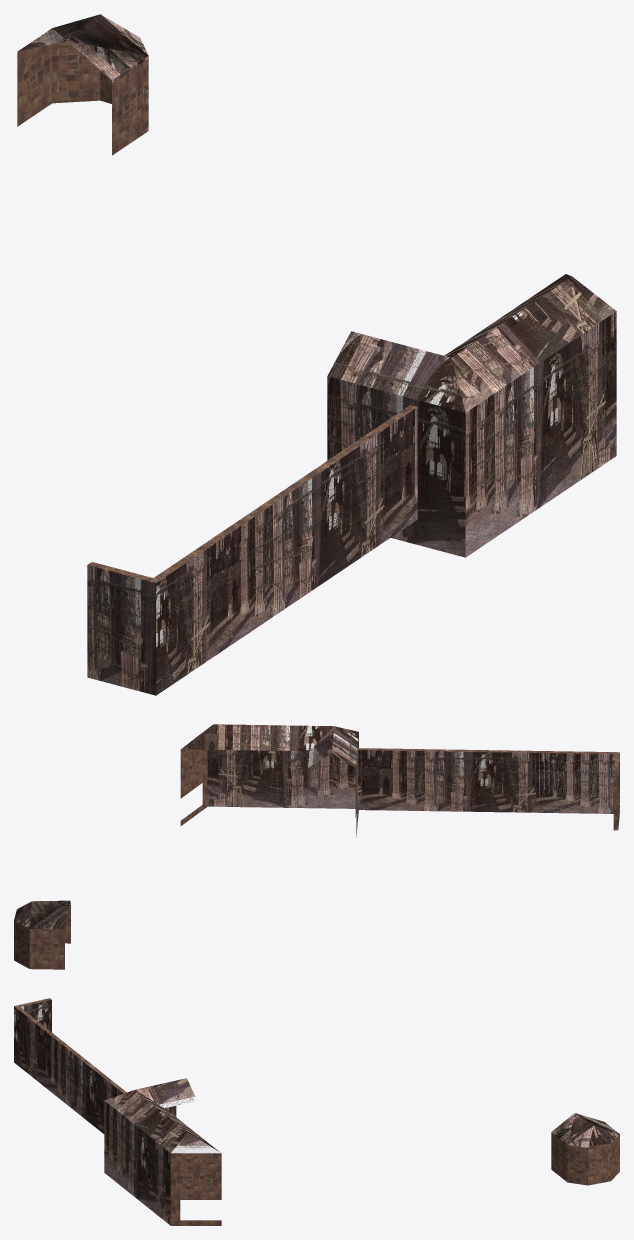
The model's file is boutiques.obj.
3 renders of one model, top to bottom at view 1: azimuth 30°, elevation 25°; view 2: azimuth 150°, elevation 25°; view 3: azimuth 270°, elevation 25°, orthographic. The views are drawn at different scales.
Visible parts, largest first — view 1: Mesh1 Boutiques_neogothiques Model, Mesh2 Boutiques_neogothiques Model; view 2: Mesh1 Boutiques_neogothiques Model, Mesh2 Boutiques_neogothiques Model; view 3: Mesh1 Boutiques_neogothiques Model, Mesh2 Boutiques_neogothiques Model.
Part boxes in pixels (x1=…): Mesh1 Boutiques_neogothiques Model: x1=87, y1=274, x2=616, y2=695; Mesh2 Boutiques_neogothiques Model: x1=17, y1=14, x2=148, y2=155; Mesh1 Boutiques_neogothiques Model: x1=180, y1=724, x2=619, y2=837; Mesh2 Boutiques_neogothiques Model: x1=14, y1=900, x2=70, y2=969; Mesh1 Boutiques_neogothiques Model: x1=14, y1=998, x2=221, y2=1225; Mesh2 Boutiques_neogothiques Model: x1=551, y1=1113, x2=619, y2=1185.
Bounding box in the file's own units: 62.08 × 15.86 × 100.
